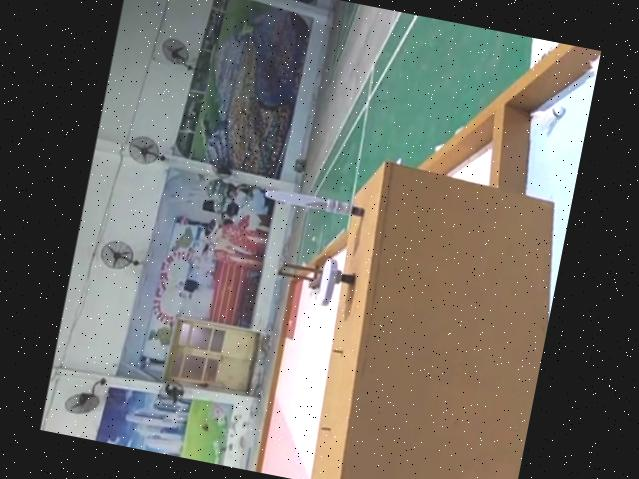Hand: (315, 254, 359, 311)
Sph: (262, 183, 363, 218)
